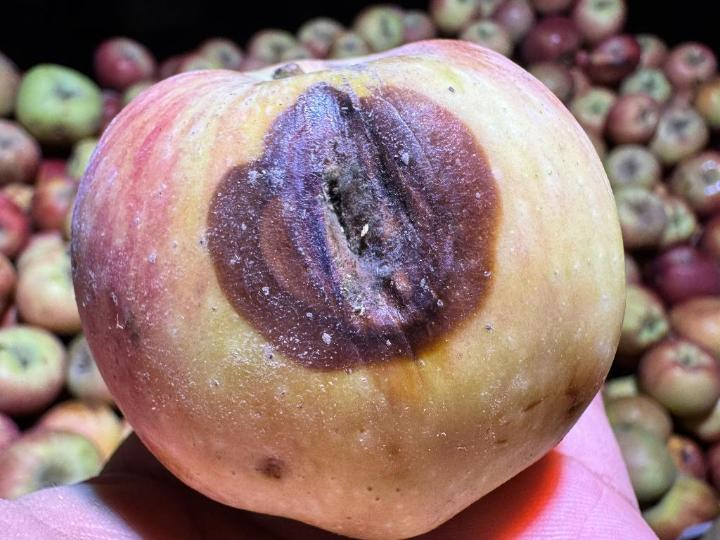apple: (71, 40, 625, 539)
rot_mold_decay: (208, 82, 499, 369)
